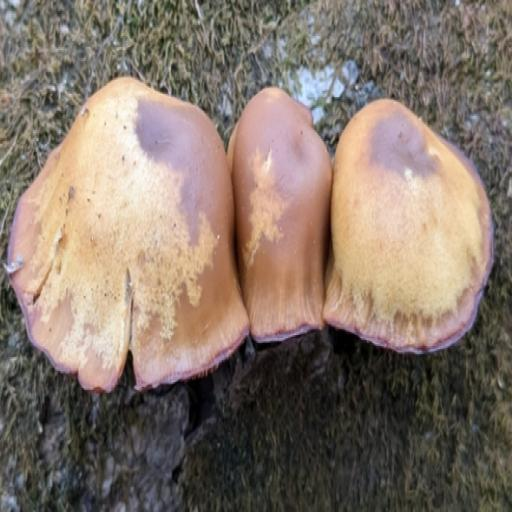mushroom: (6, 69, 501, 409)
